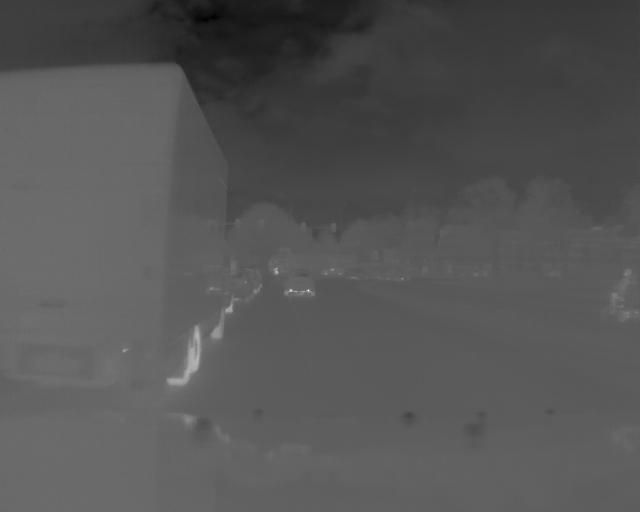car: (281, 268, 318, 297), (228, 268, 257, 303), (323, 265, 347, 277)
person: (613, 266, 633, 313)
